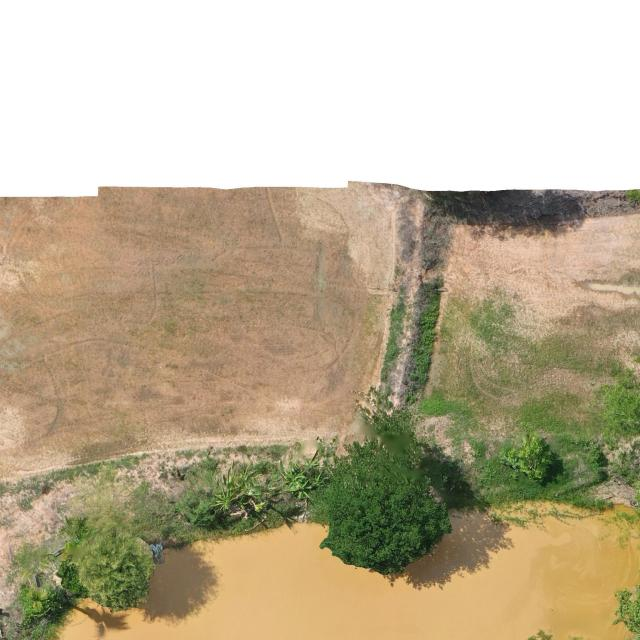Tree: (316, 435, 457, 577), (53, 522, 155, 614), (7, 540, 57, 628), (498, 432, 562, 486)
